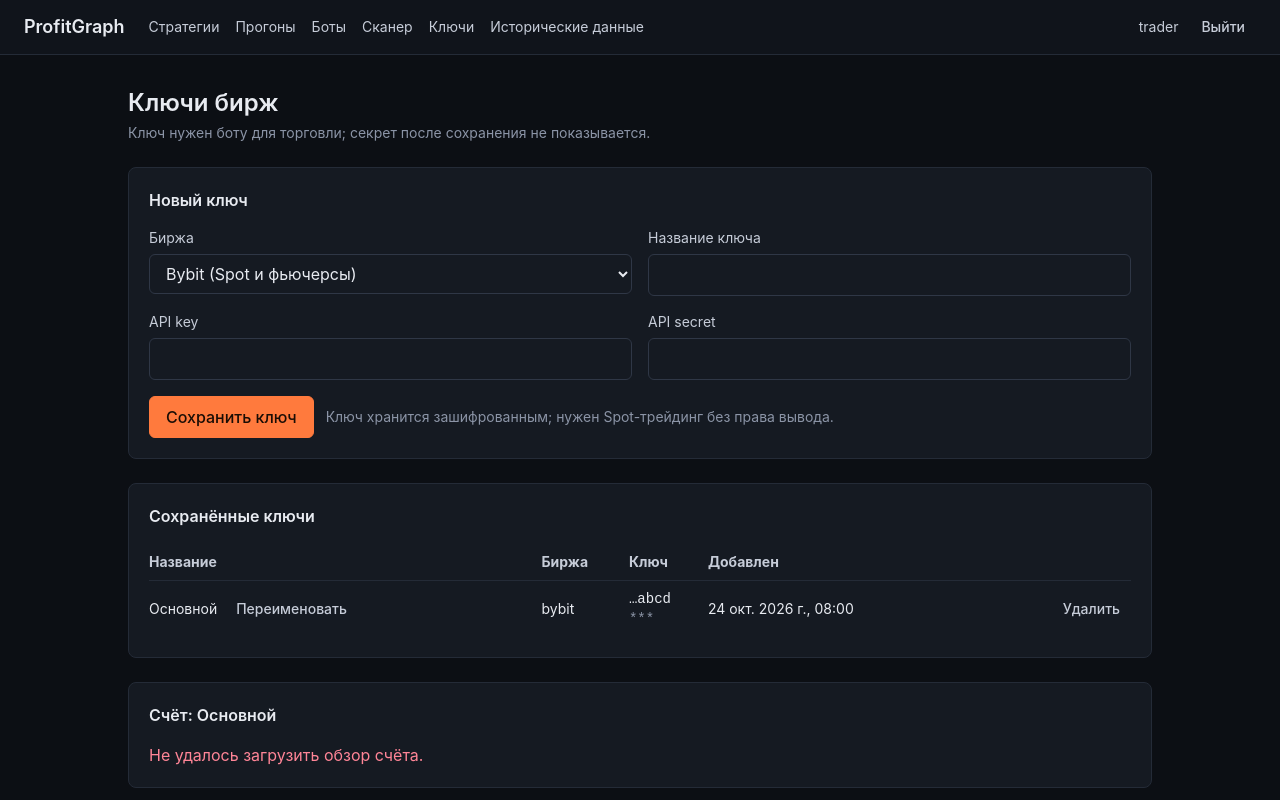
it: renaming › does not save a blank key name and shows the API’s refusal
Click the button with aria-label "Переименовать «": (292, 609) [225,594,358,624]
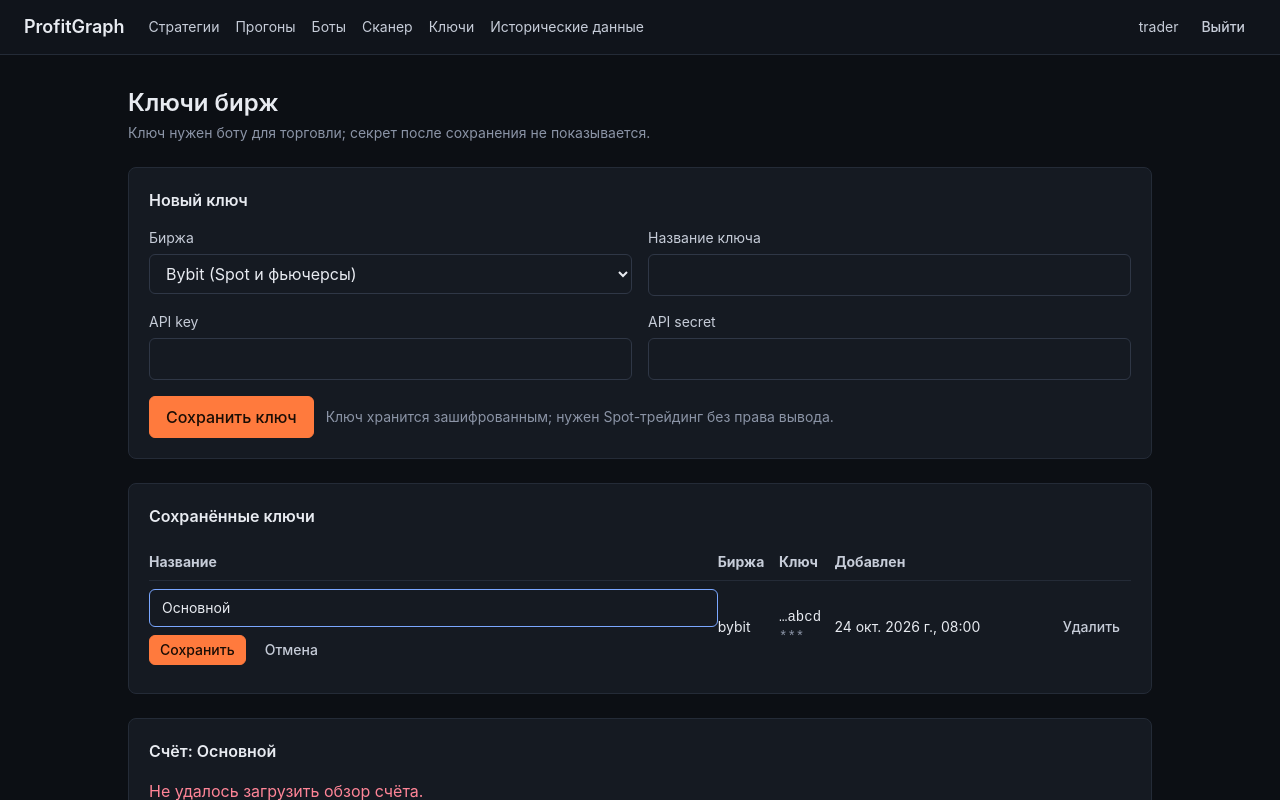
Clear the field named "Название ключа Основной": (433, 608) [149,589,718,627]
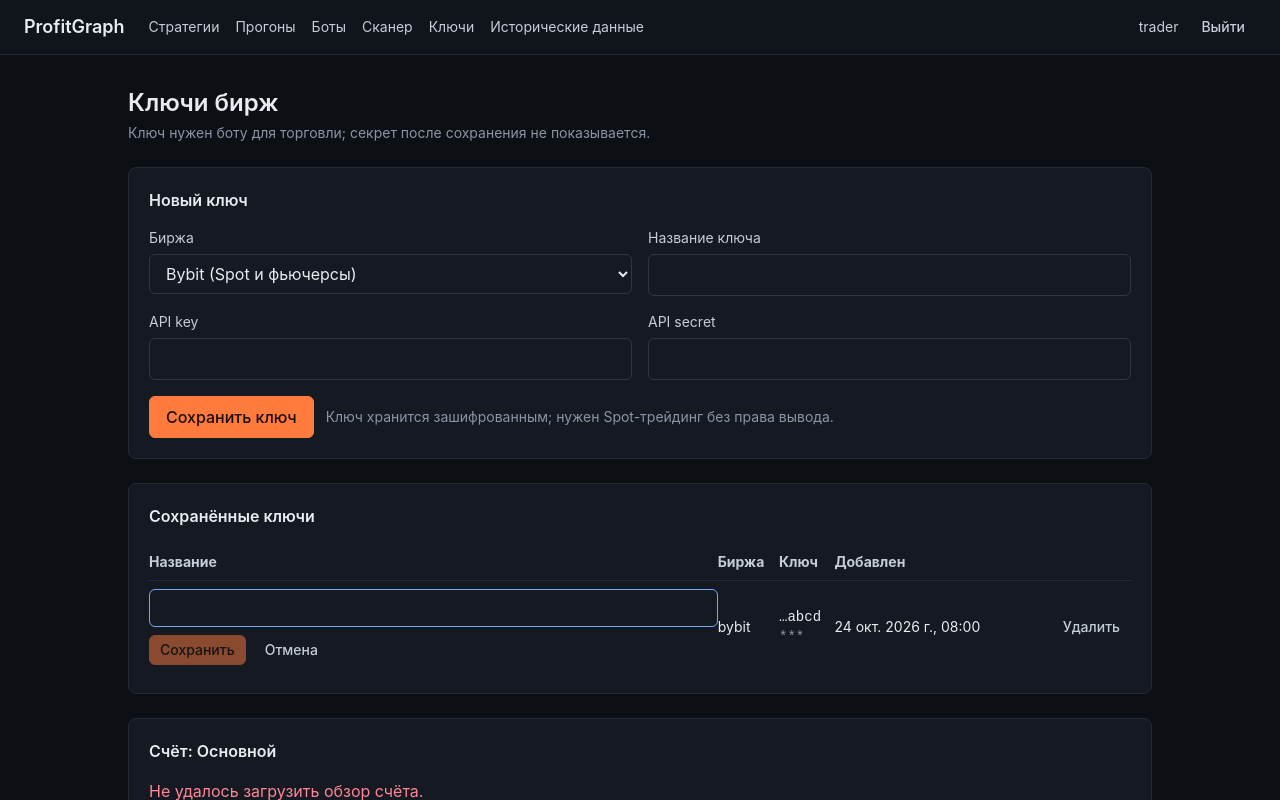
Check: the button "Сохранить" is disabled, box [149,635,246,665]
In the field named "Название ключа Основной": (433, 608) [149,589,718,627], type "Новое"
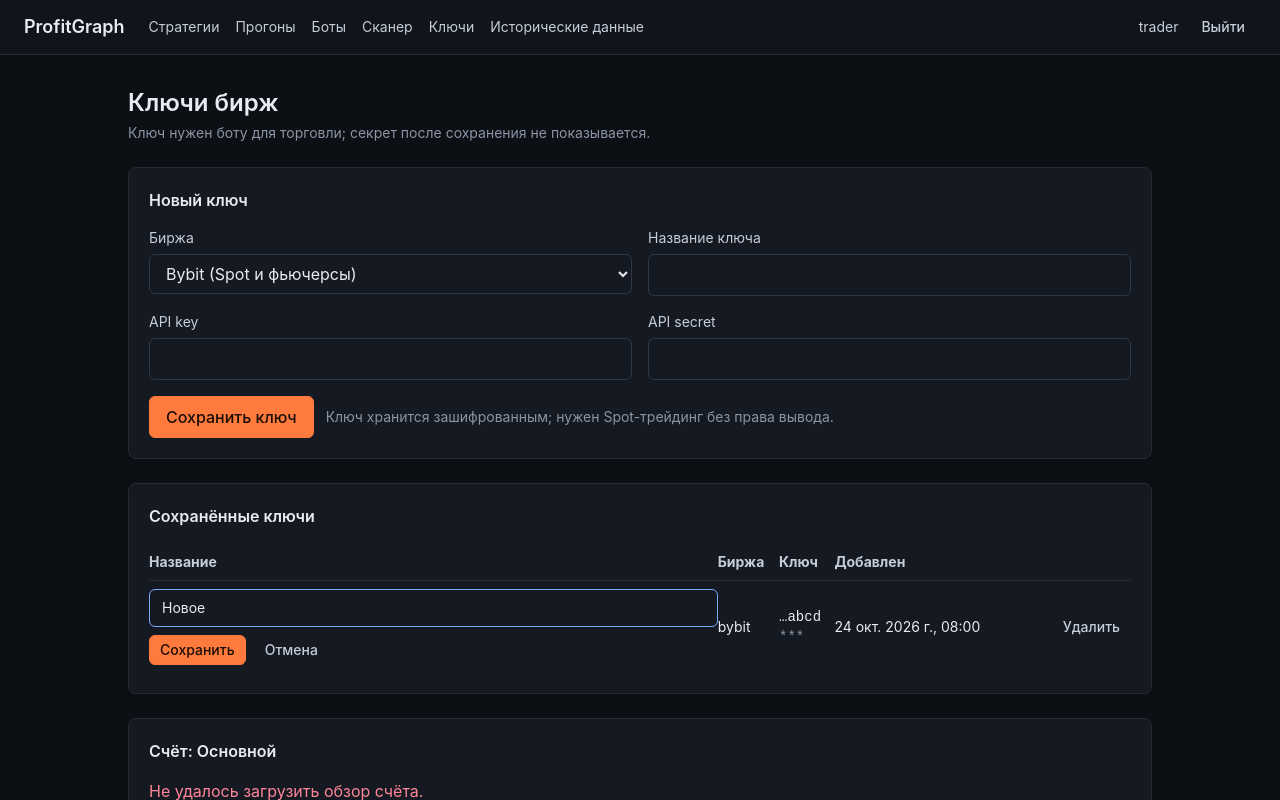
Click the button "Сохранить": (197, 650) [149,635,246,665]
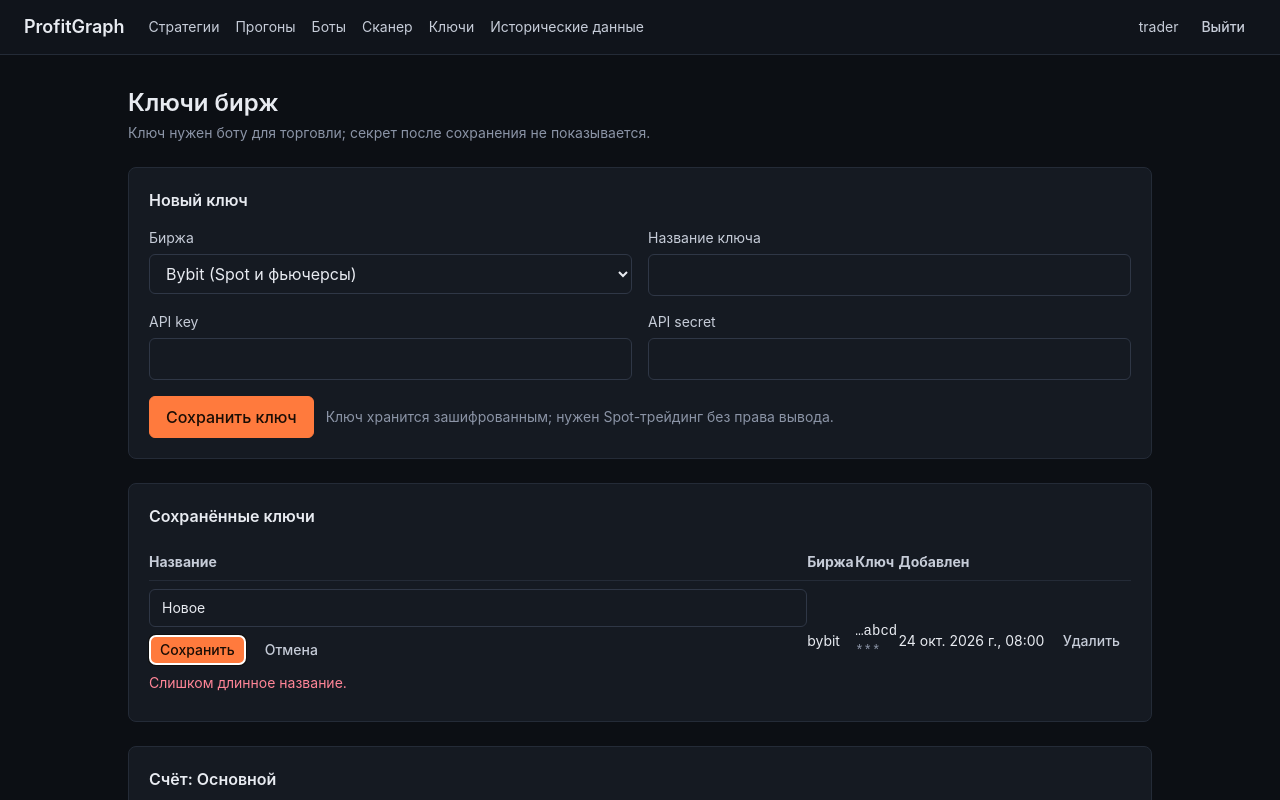
Check: the text "Слишком длинное название." is shown, box [149,674,347,691]
